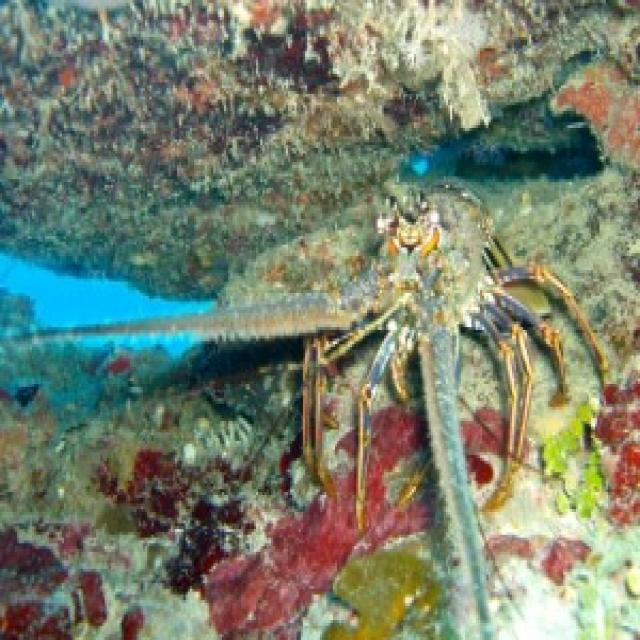lobsters: (111, 143, 625, 541)
